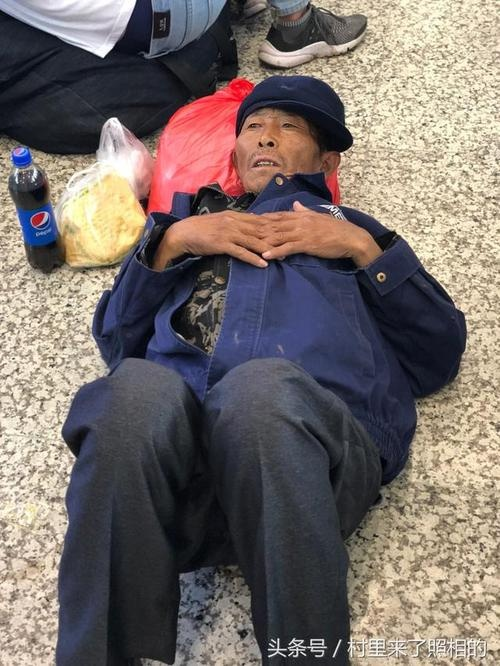falling: (41, 46, 465, 666)
